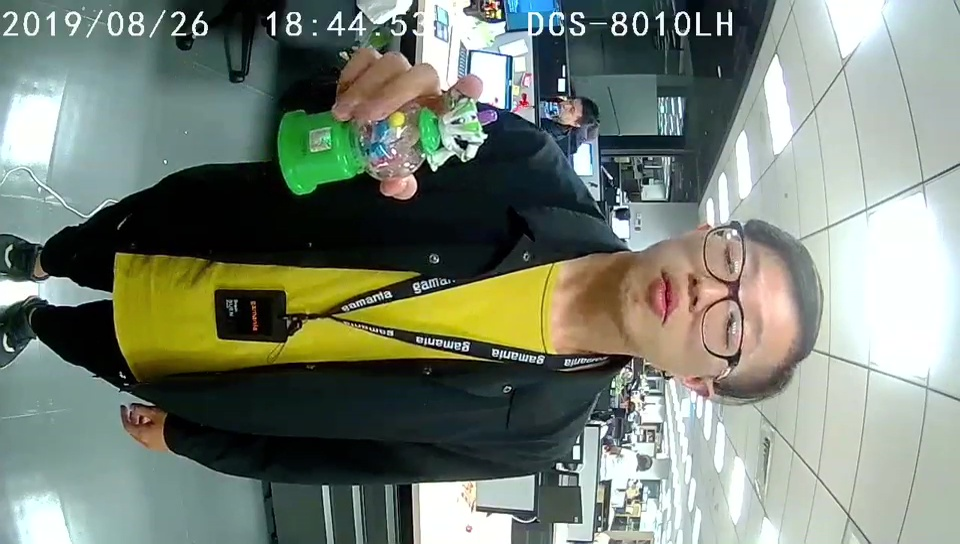buzz: (275, 96, 499, 197)
